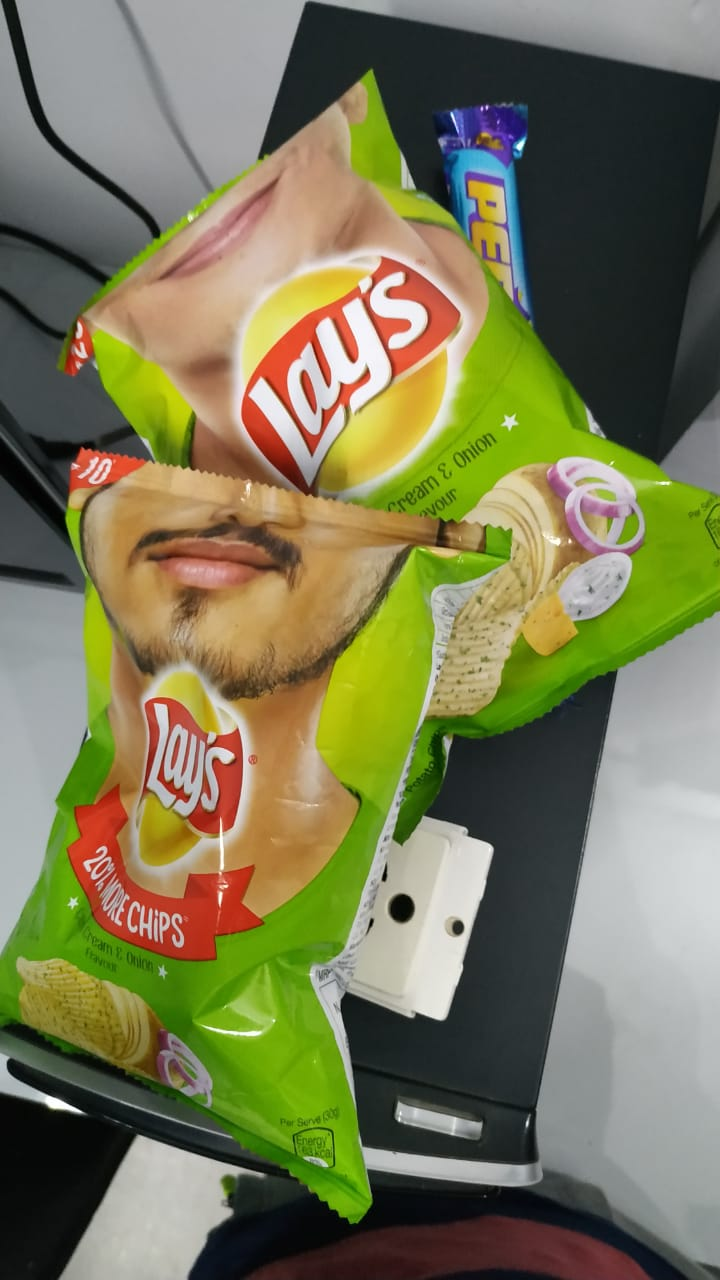lays chips: (31, 445, 435, 1229), (82, 168, 720, 658)
perk: (419, 100, 568, 280)
